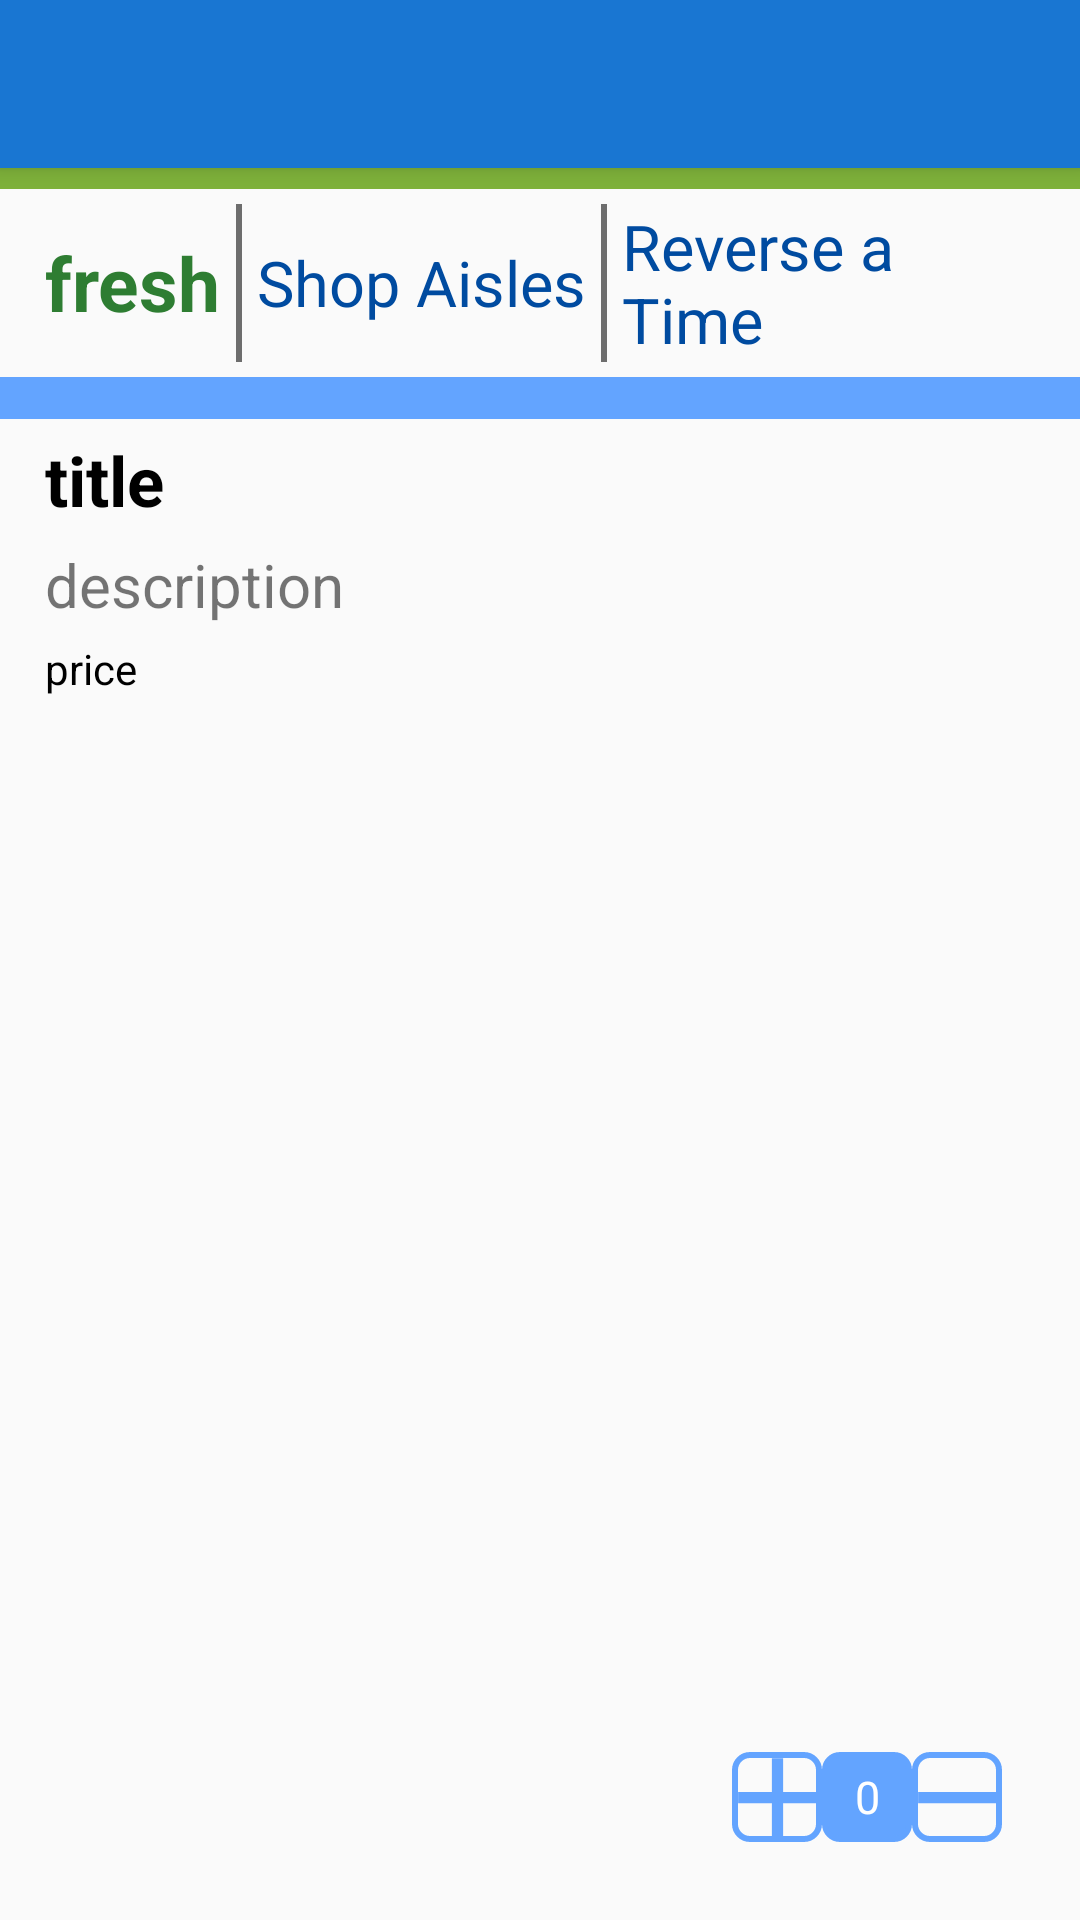

Locate icon controls on the screen. Image size 1080*1920, boxes as {"x1": x1, "y1": y1, "x2": x2, "y2": y2}.
minus button: {"x1": 912, "y1": 1752, "x2": 1002, "y2": 1842}
